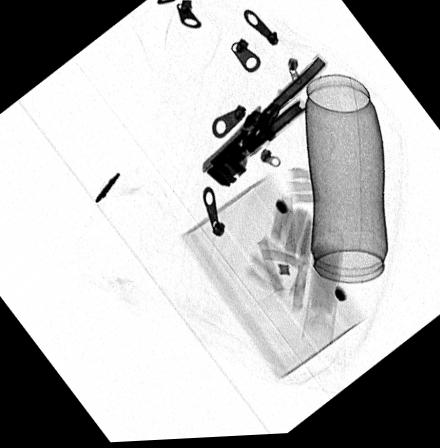Pliers: (201, 58, 328, 189)
